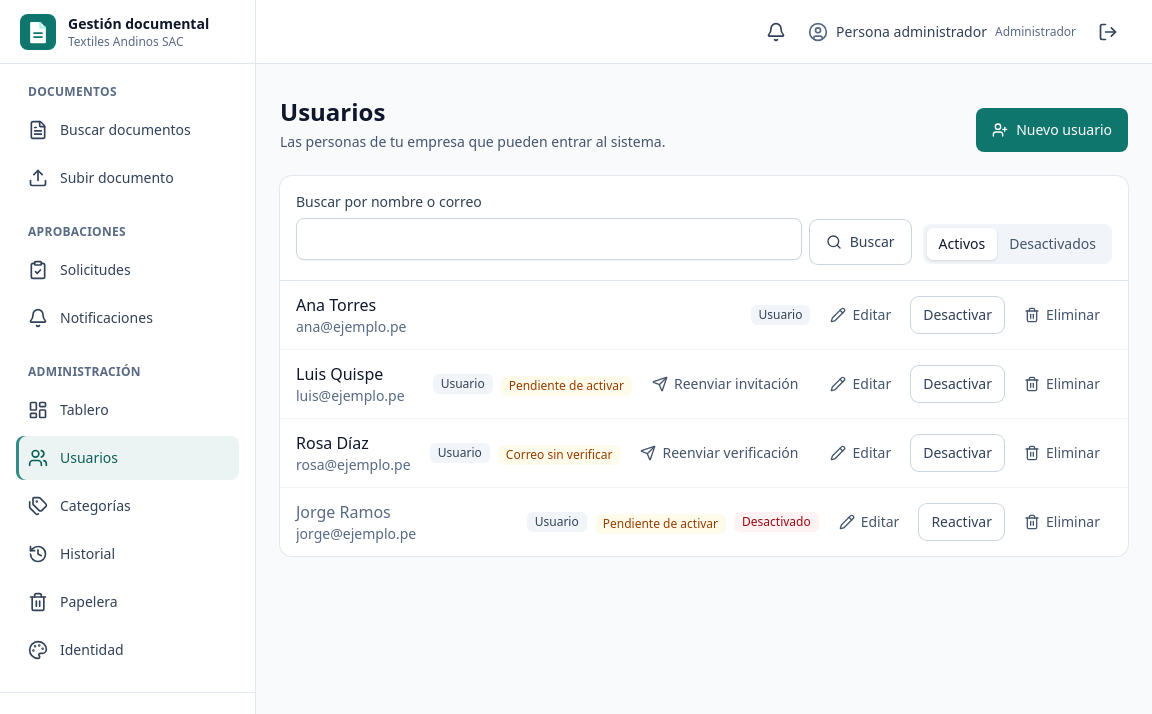
Test: Usuarios: el estado del correo y la invitación (D41) › una cuenta nueva se crea sin contraseña: la define su dueño al aceptar la invitación
This screenshot has width=1152, height=714.
Click the button "Nuevo usuario": (1052, 130) [976,108,1128,152]
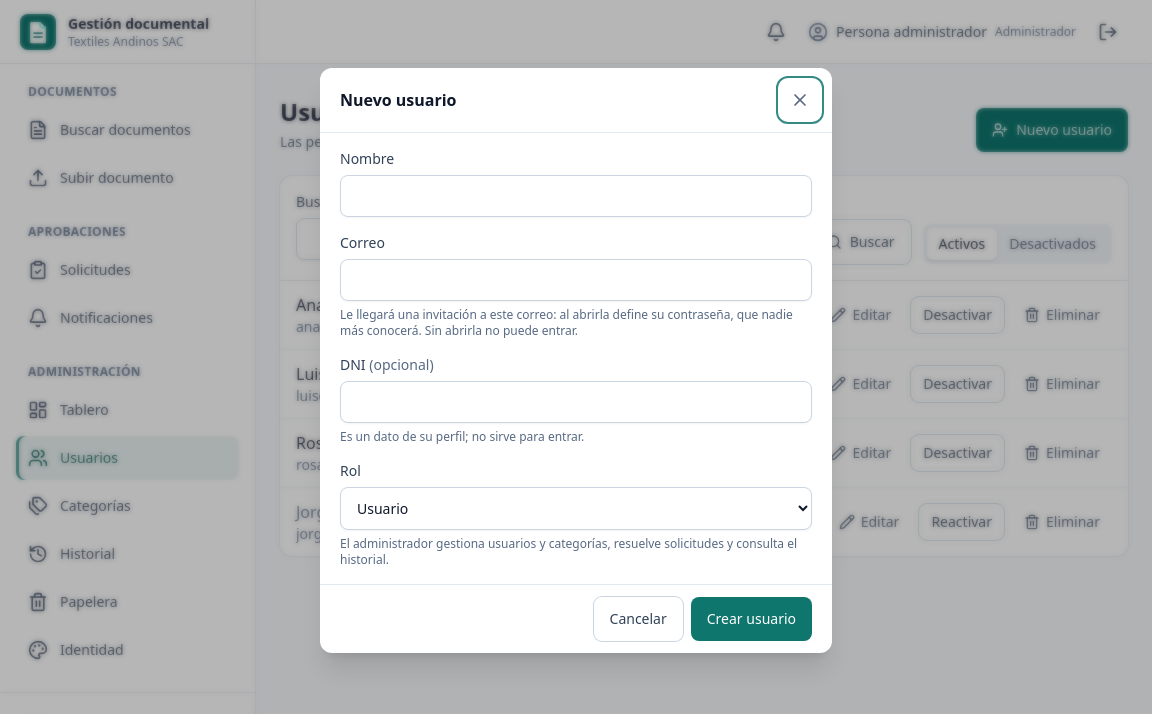
In the field labelled "Nombre": (576, 196) [340,174,812,216], type "Carla Rojas"
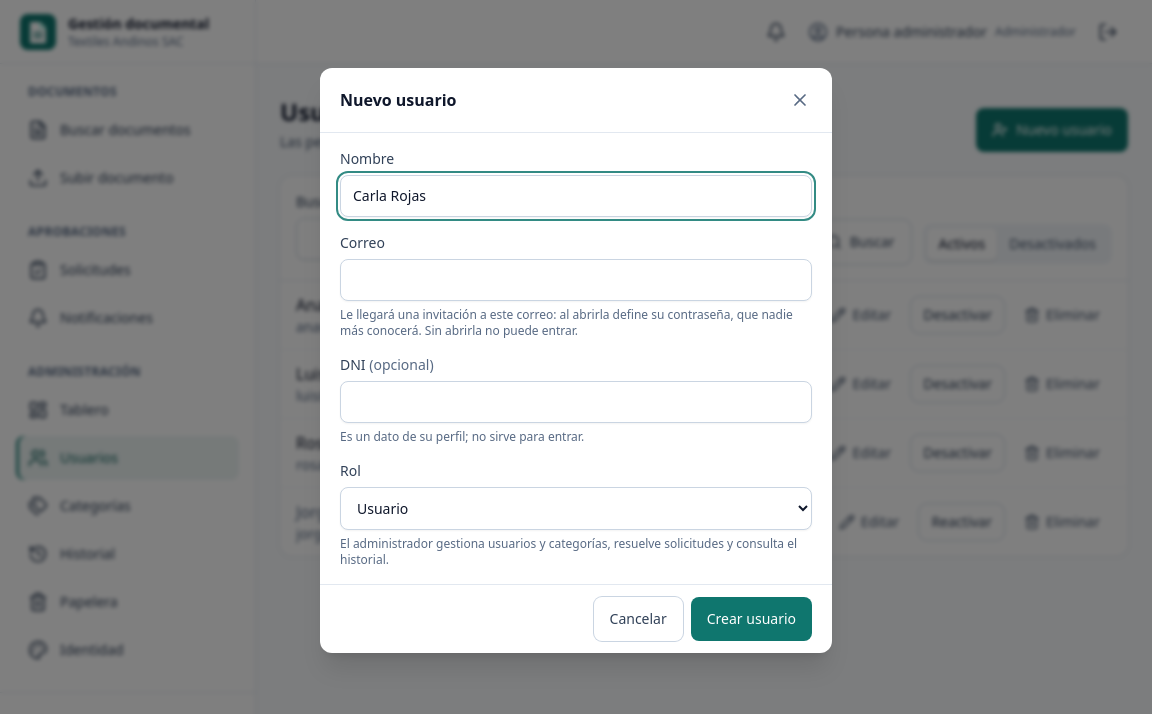
In the field labelled "Correo": (576, 280) [340,258,812,300], type "carla@ejemplo.pe"
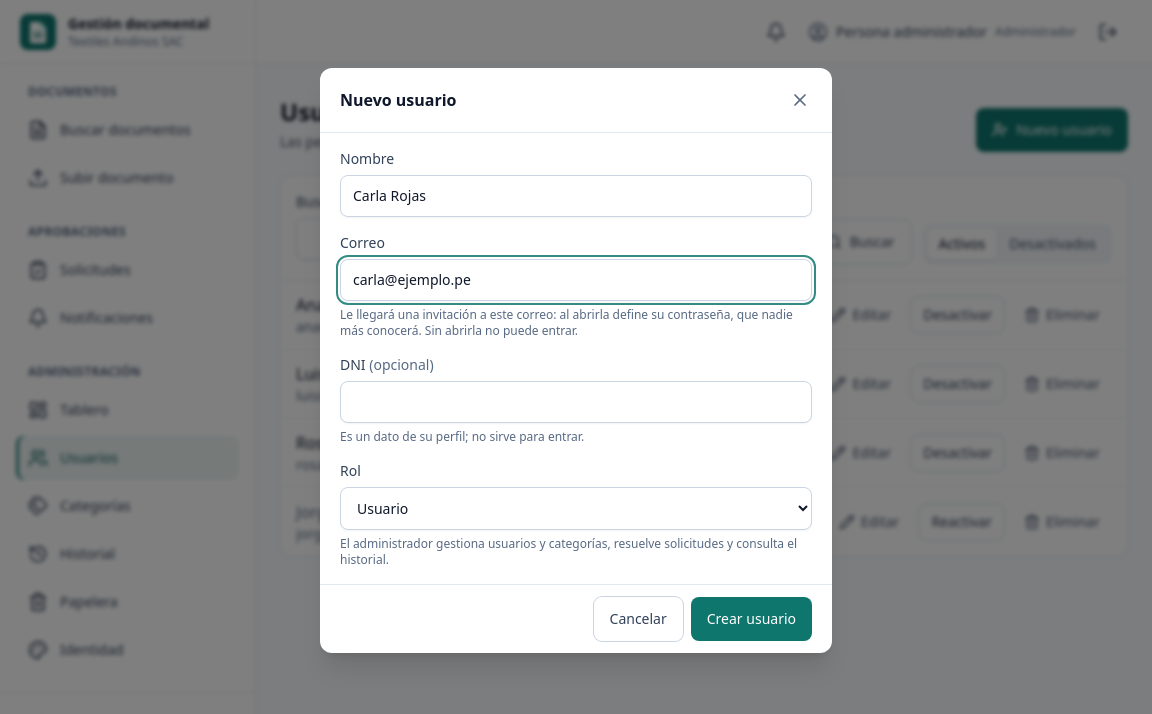
Click the button "Crear usuario": (751, 618) [691,596,812,640]
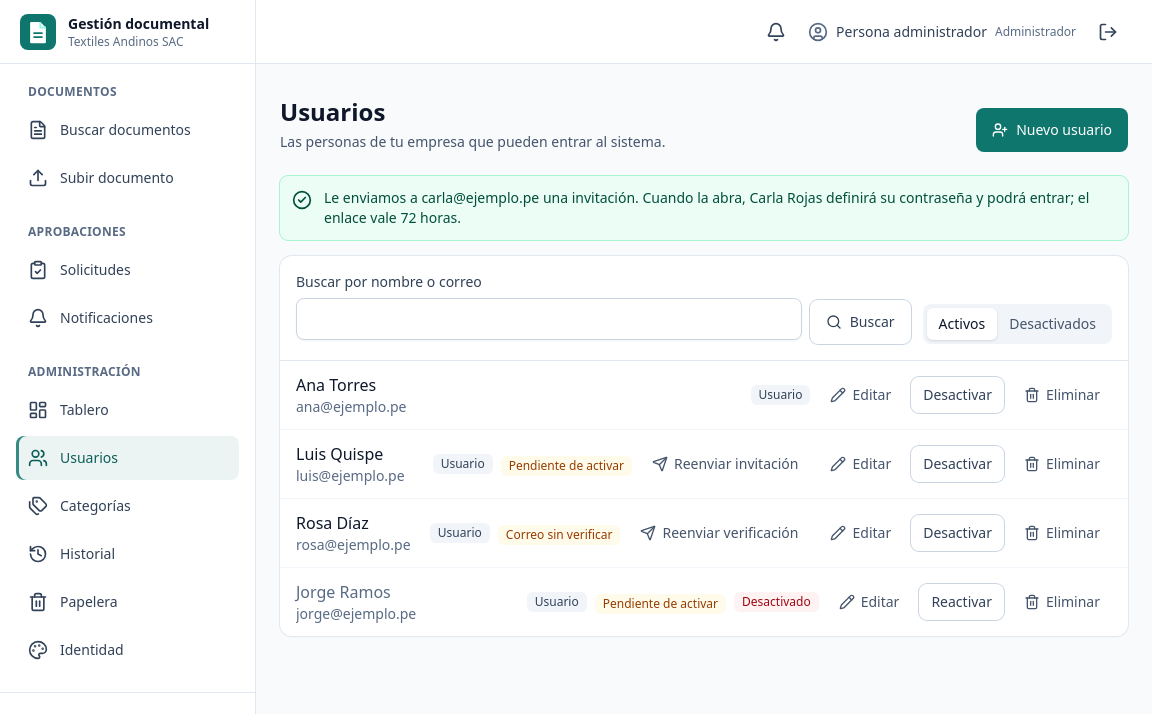
Expected: the text "Le enviamos a carla@ejemplo.pe una invitación" is shown, [324,188,1089,227]
